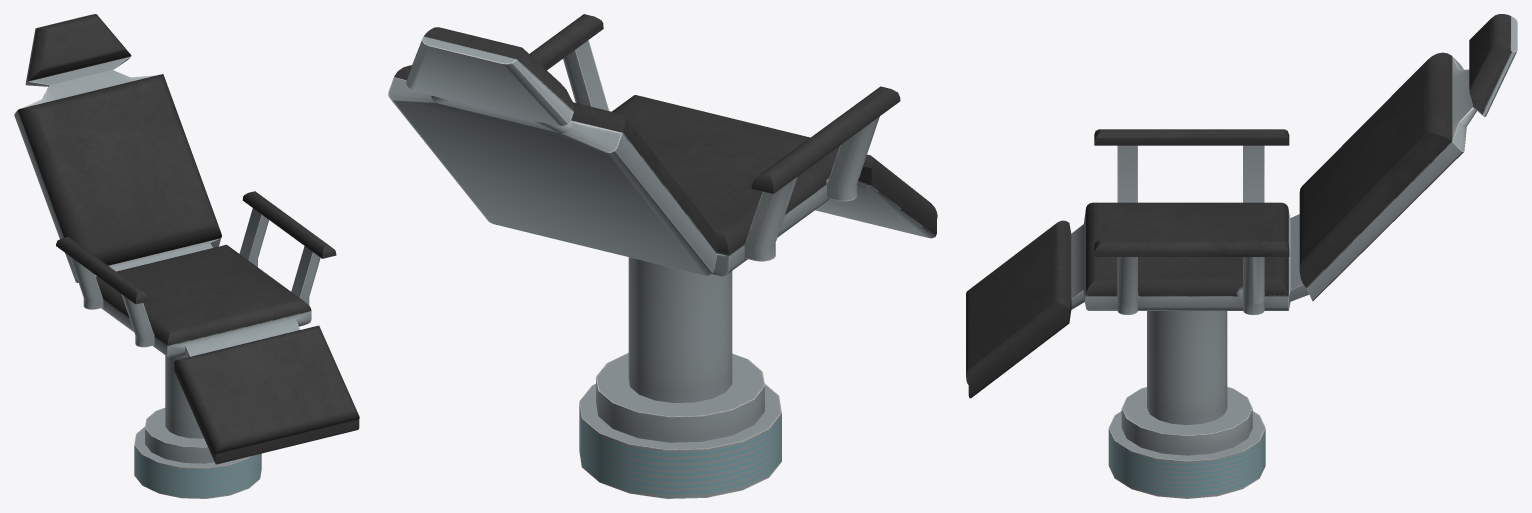
File: chairBed.fbx
The picture shows the model from 3 angles, left to right: view 1: azimuth 30°, elevation 25°; view 2: azimuth 150°, elevation 25°; view 3: azimuth 270°, elevation 25°; orthographic projection. The views are drawn at different scales.
Parts seen in each view (by area): view 1: chairBed; view 2: chairBed; view 3: chairBed.
Boxes of the visible parts, x1,y1,x2,y2 form: chairBed: (14,14,359,498); chairBed: (388,14,937,498); chairBed: (966,14,1517,498).
Bounding box in the file's own units: 315 × 534 × 614.
